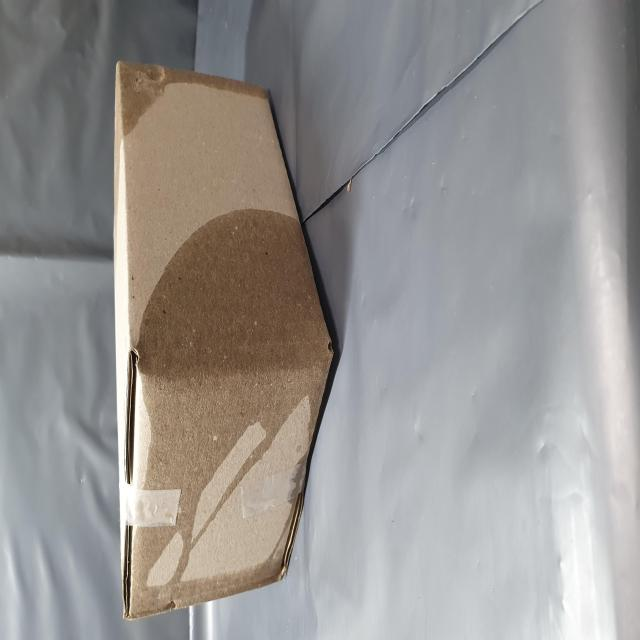wet: (23, 208, 241, 594), (277, 199, 346, 332)
